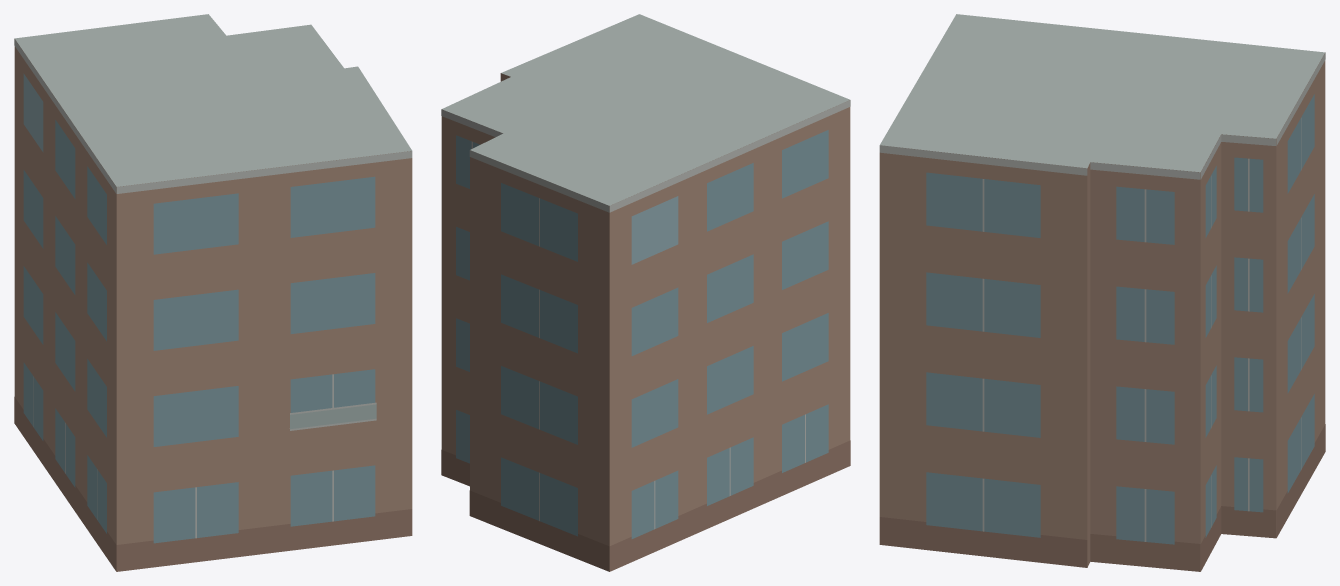
File: survey-upis-32850697.glb
The picture shows the model from 3 angles, left to right: view 1: azimuth 30°, elevation 25°; view 2: azimuth 150°, elevation 25°; view 3: azimuth 270°, elevation 25°; orthographic projection. The views are drawn at different scales.
Parts seen in each view (by area): view 1: survey-upis-32850697.tmp; view 2: survey-upis-32850697.tmp; view 3: survey-upis-32850697.tmp.
Boxes of the visible parts, <box> form: survey-upis-32850697.tmp: <box>14,14,412,571</box>; survey-upis-32850697.tmp: <box>441,14,850,571</box>; survey-upis-32850697.tmp: <box>879,14,1325,571</box>.
Bounding box in the file's own units: 11.05 × 13 × 13.15.
